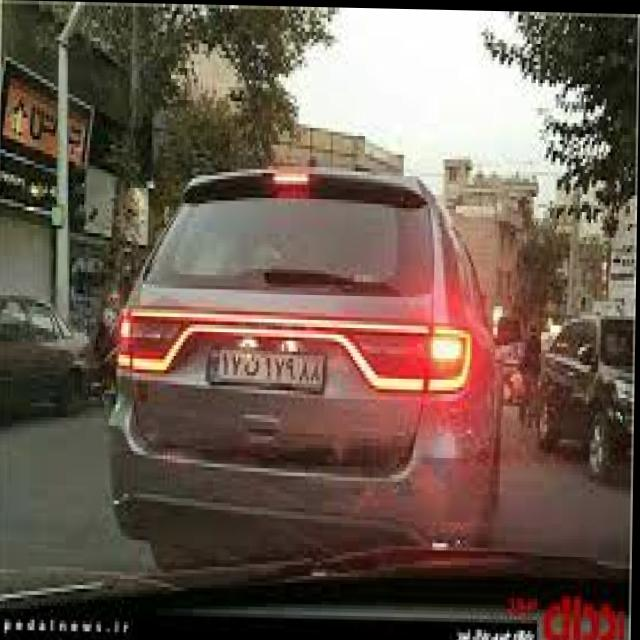licence: (204, 338, 329, 390)
